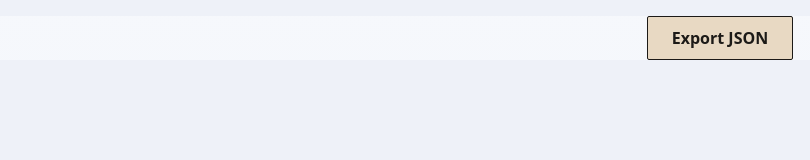
Scenario: BoardExport › refuses a board-only label with a cell missing its cage letter
Click the button "Export JSON".
click(720, 38)  # box [647,16,793,60]
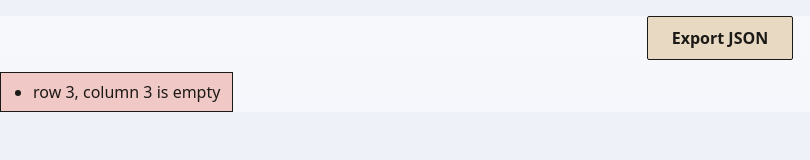
Check: the message "row 3, column 3 is empty" is shown, box [0,72,233,112]
